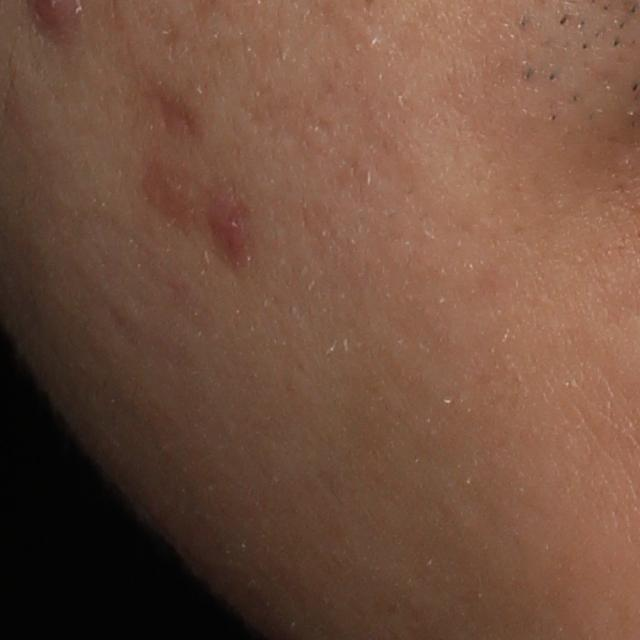papule: (213, 216, 251, 270)
